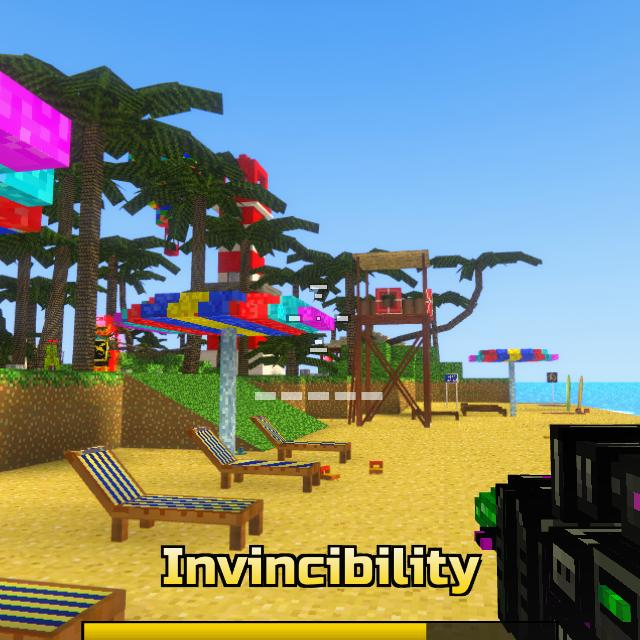Enemy: (96, 327, 119, 371)
